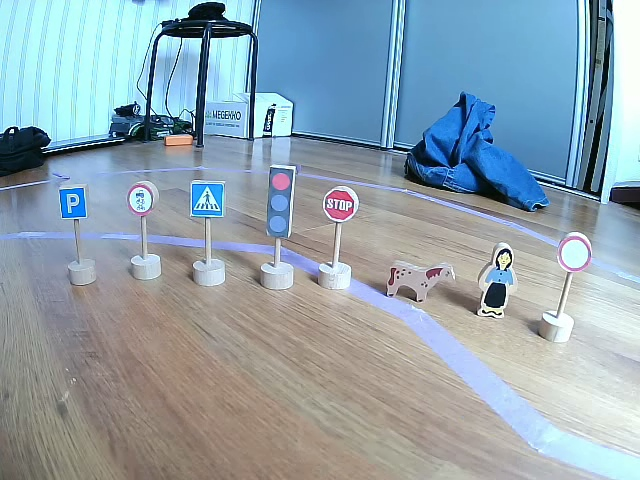fietspad: (129, 184, 154, 214)
mens: (477, 243, 516, 317)
paard: (387, 262, 456, 297)
parkeerbord: (59, 186, 90, 218)
roodlicht: (264, 165, 296, 238)
stopbord: (323, 186, 356, 220)
wegdicht: (557, 233, 593, 273)
zebrapad: (188, 182, 226, 218)
